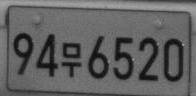0: (162, 38, 184, 83)
2: (138, 36, 158, 81)
4: (34, 33, 58, 77)
5: (112, 36, 133, 80)
6: (87, 35, 109, 79)
9: (12, 32, 34, 75)
무: (60, 41, 81, 78)
